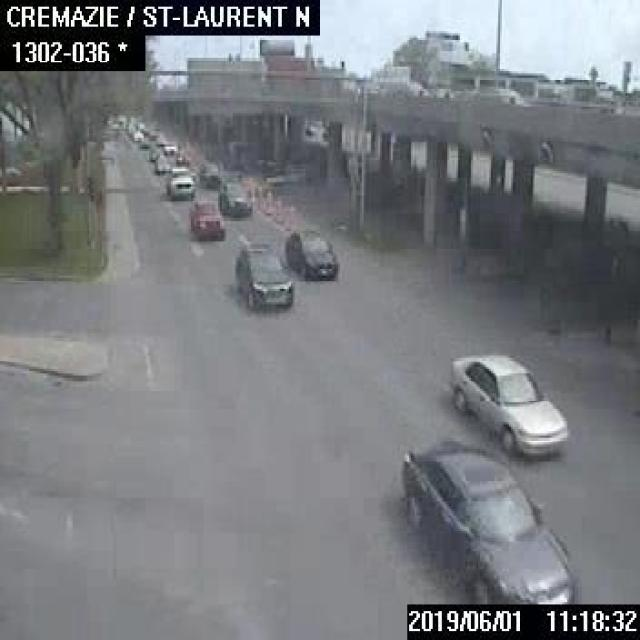construction: (256, 185, 263, 208), (285, 206, 293, 226), (265, 189, 272, 211), (273, 196, 280, 218)
vehicle: (398, 433, 582, 602), (446, 351, 568, 453), (232, 239, 291, 308), (284, 227, 336, 275), (364, 69, 454, 95), (188, 198, 224, 240), (562, 85, 618, 111), (215, 180, 251, 217), (464, 82, 524, 102), (165, 166, 195, 197), (197, 159, 222, 187), (152, 150, 172, 173), (175, 146, 193, 167), (147, 146, 160, 161), (161, 141, 175, 153), (154, 131, 165, 144), (138, 137, 149, 147), (131, 128, 141, 138)
